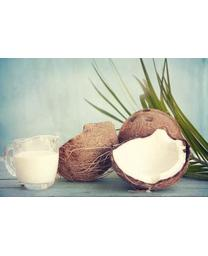coconut: (111, 129, 188, 192), (55, 119, 119, 188), (115, 108, 189, 162)
